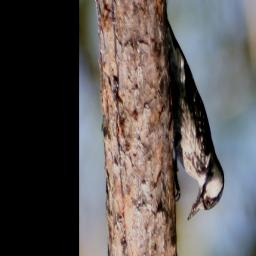Woodpecker: (167, 8, 225, 223)
